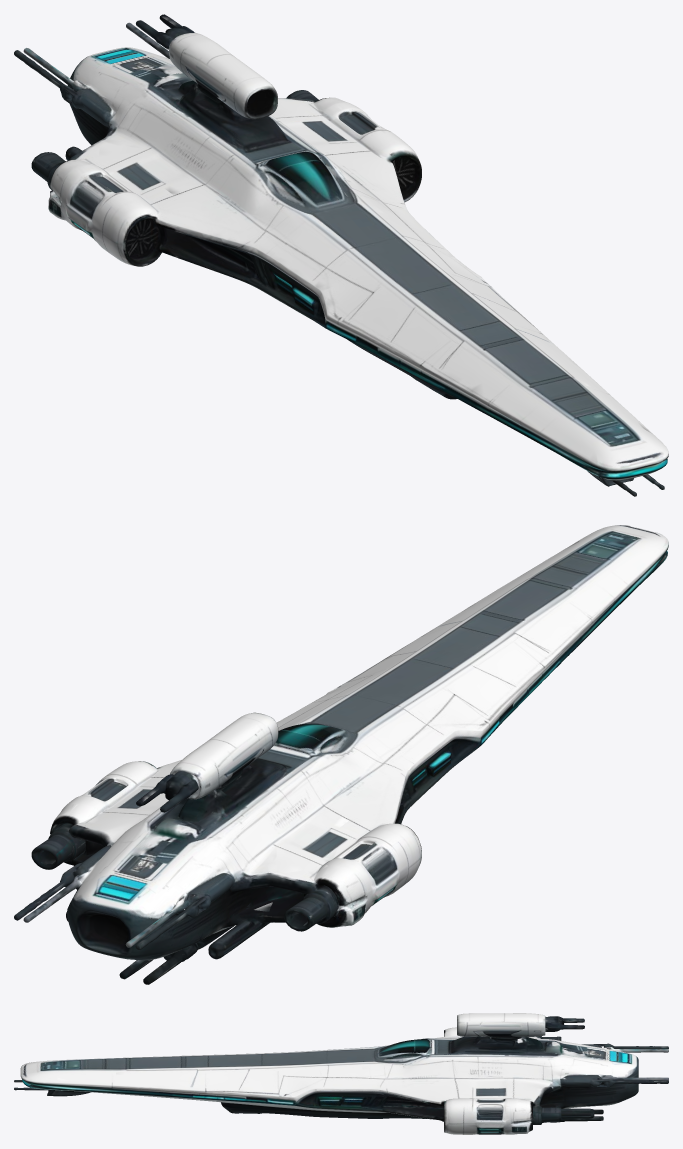
The model's file is scout.glb.
3 views of the same model, one above another, from view 1: azimuth 30°, elevation 25°; view 2: azimuth 150°, elevation 25°; view 3: azimuth 270°, elevation 25° (orthographic). The views are drawn at different scales.
Parts seen in each view (by area): view 1: node_0; view 2: node_0; view 3: node_0.
Part boxes in pixels (x1,y1,x2,y2): node_0: [14, 14, 668, 496]; node_0: [14, 525, 668, 984]; node_0: [14, 1013, 668, 1134].
Bounding box in the file's own units: 0.3734 × 0.2185 × 1.19.
Materials: 1 (1 with a texture image).
